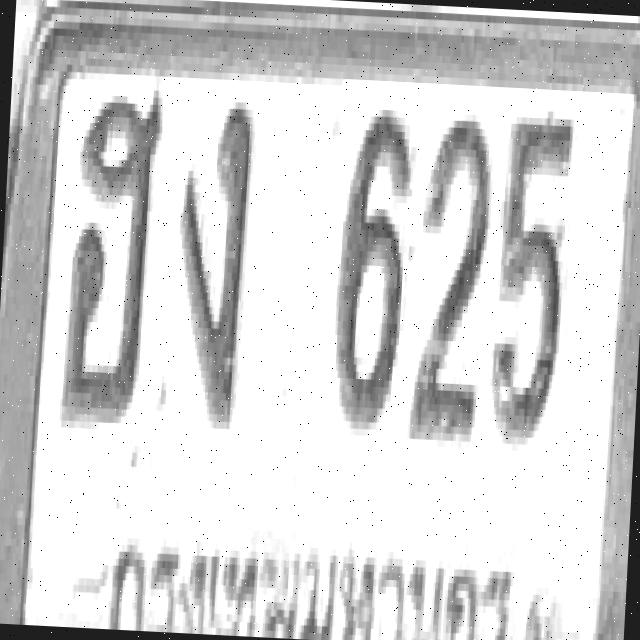16NgorNgu: (172, 96, 256, 426)
2: (406, 111, 494, 442)
5: (488, 105, 575, 442)
53HorNokHook: (59, 82, 164, 428)
6: (332, 104, 416, 427)
